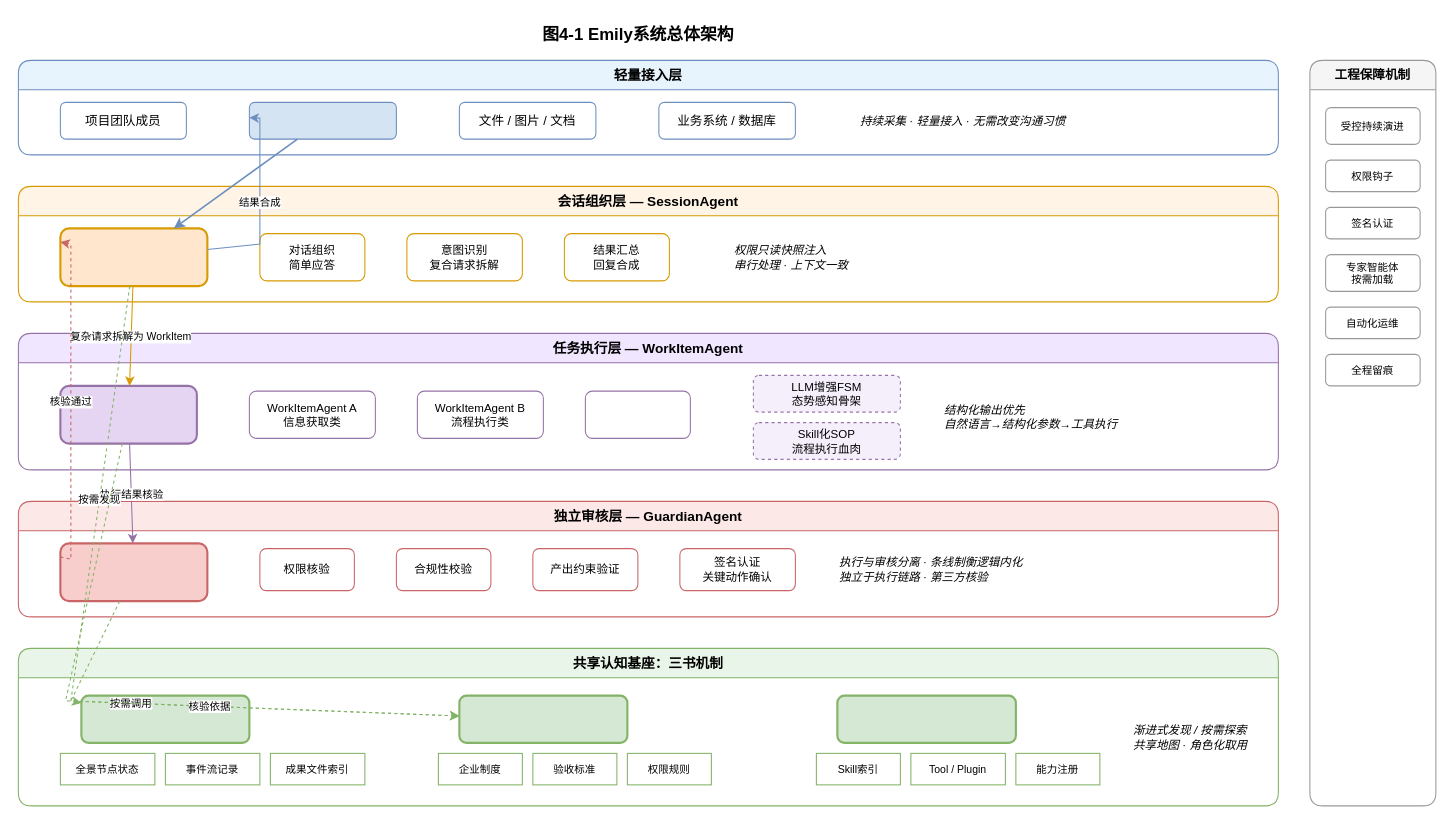
The diagram is 1454 pixels wide and 824 high, and some of its shapes have lost their labels. Here are the shapes that lost their labels. From the top down, the centre of each, then its label:
At pixel 322 120: "IM / 自然语言交互".
At pixel 133 257: "会话智能体 SessionAgent".
At pixel 128 414: "工作项调度 隔离执行".
At pixel 637 414: "WorkItemAgent N ...".
At pixel 133 572: "审核智能体 GuardianAgent".
At pixel 165 718: "项目态势书 Situation".
At pixel 543 718: "组织规则书 Rules".
At pixel 926 718: "系统能力书 Capability".
